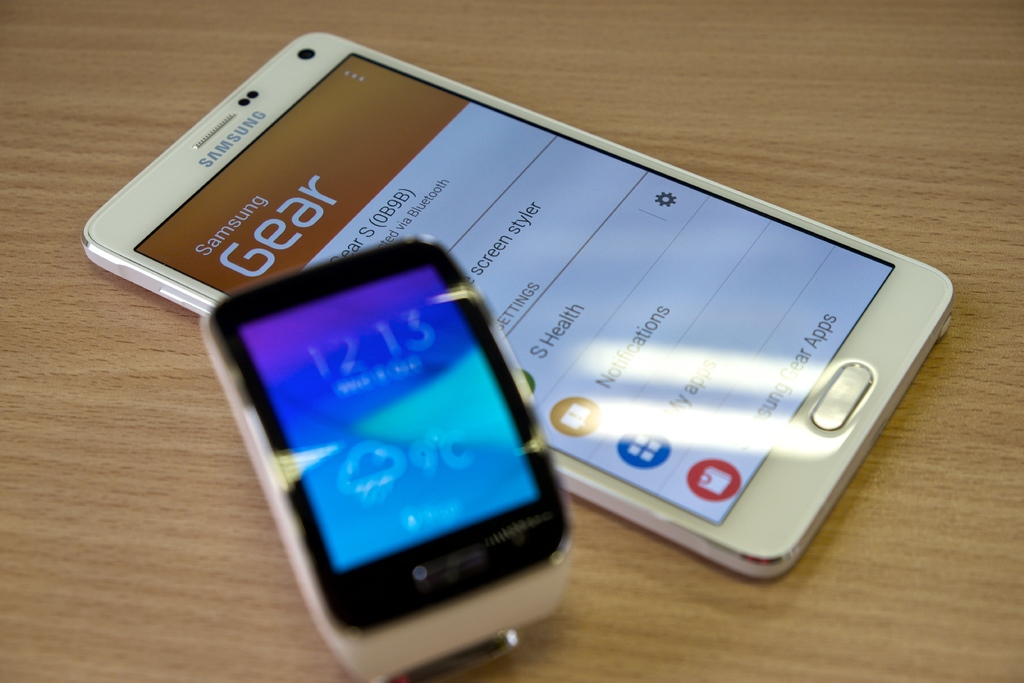Mobile-phone: (72, 31, 952, 582)
